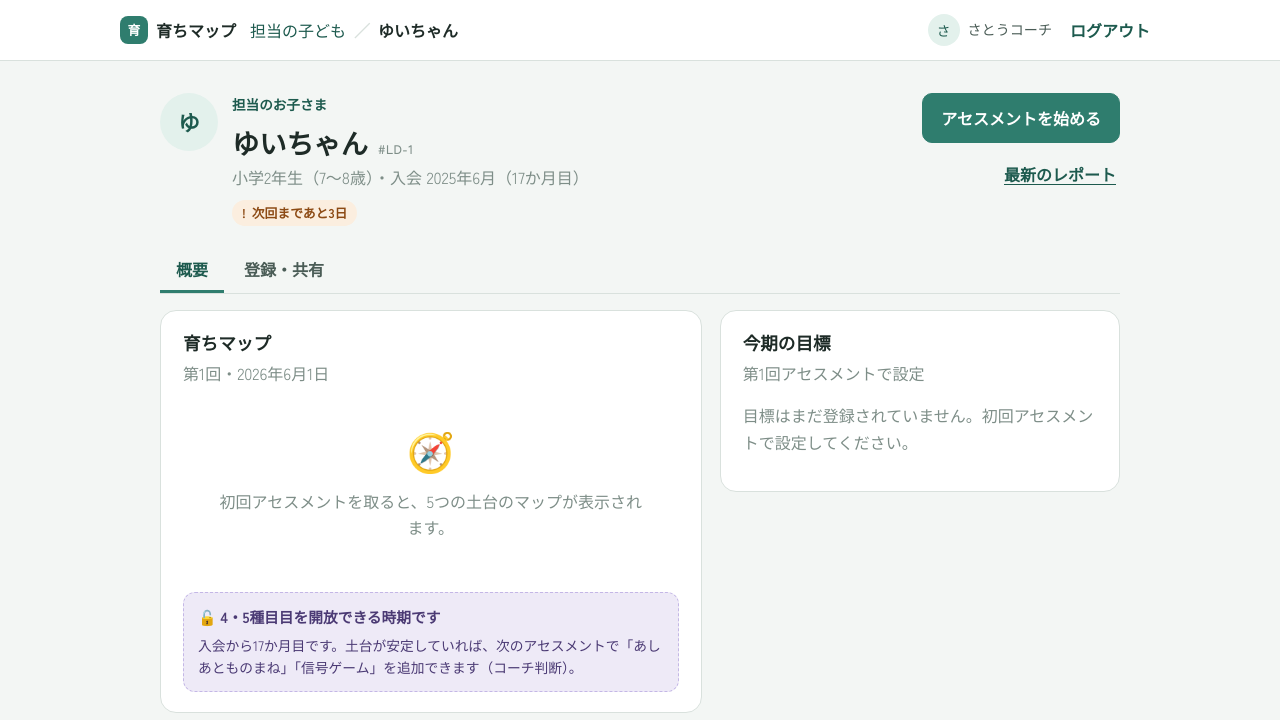
Test: 子どもページ › 2回目以降の開始では、前回の修正へ戻る道も示す
What coordinates should you click on to do the following:
click the button "アセスメントを始める"
I would click on:
 (1021, 118)
Its box is [922,93,1120,143].
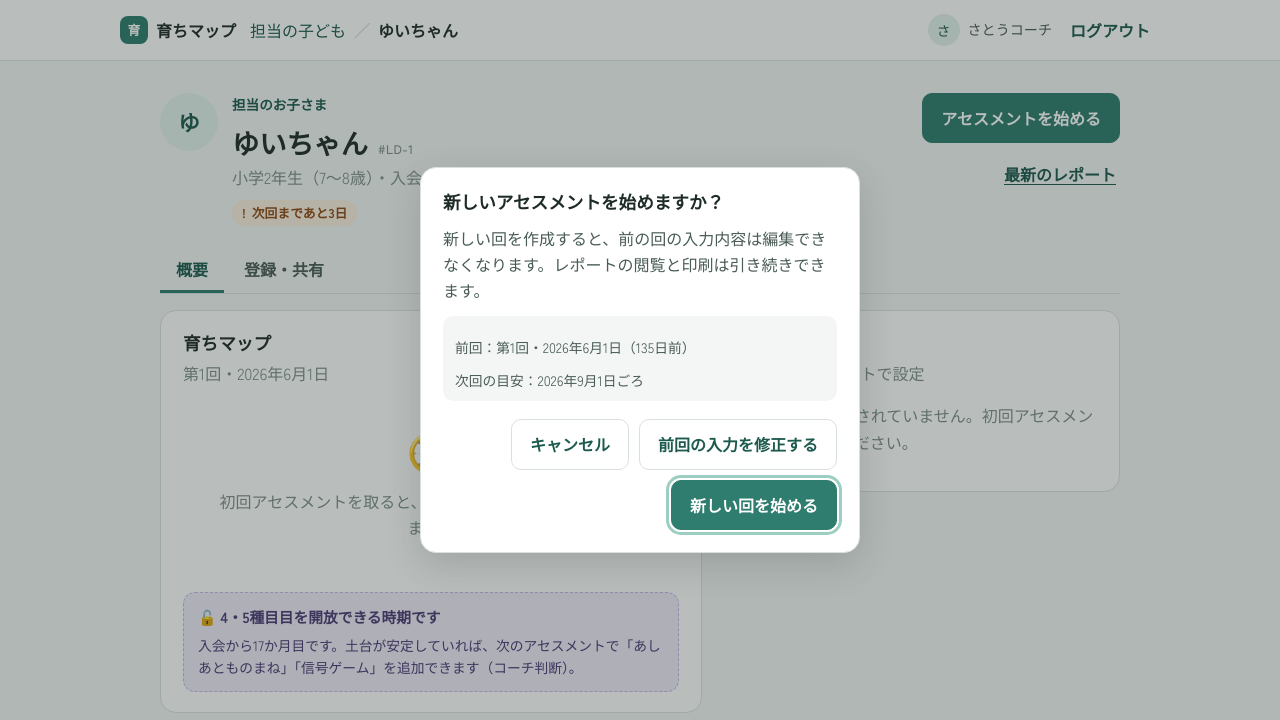
Check: the dialog shows "前回：第1回", box [420,167,860,553]
Check: the button "新しい回を始める" is shown, box [671,480,837,530]
Check: the button "前回の入力を修正する" is shown, box [639,419,837,470]
